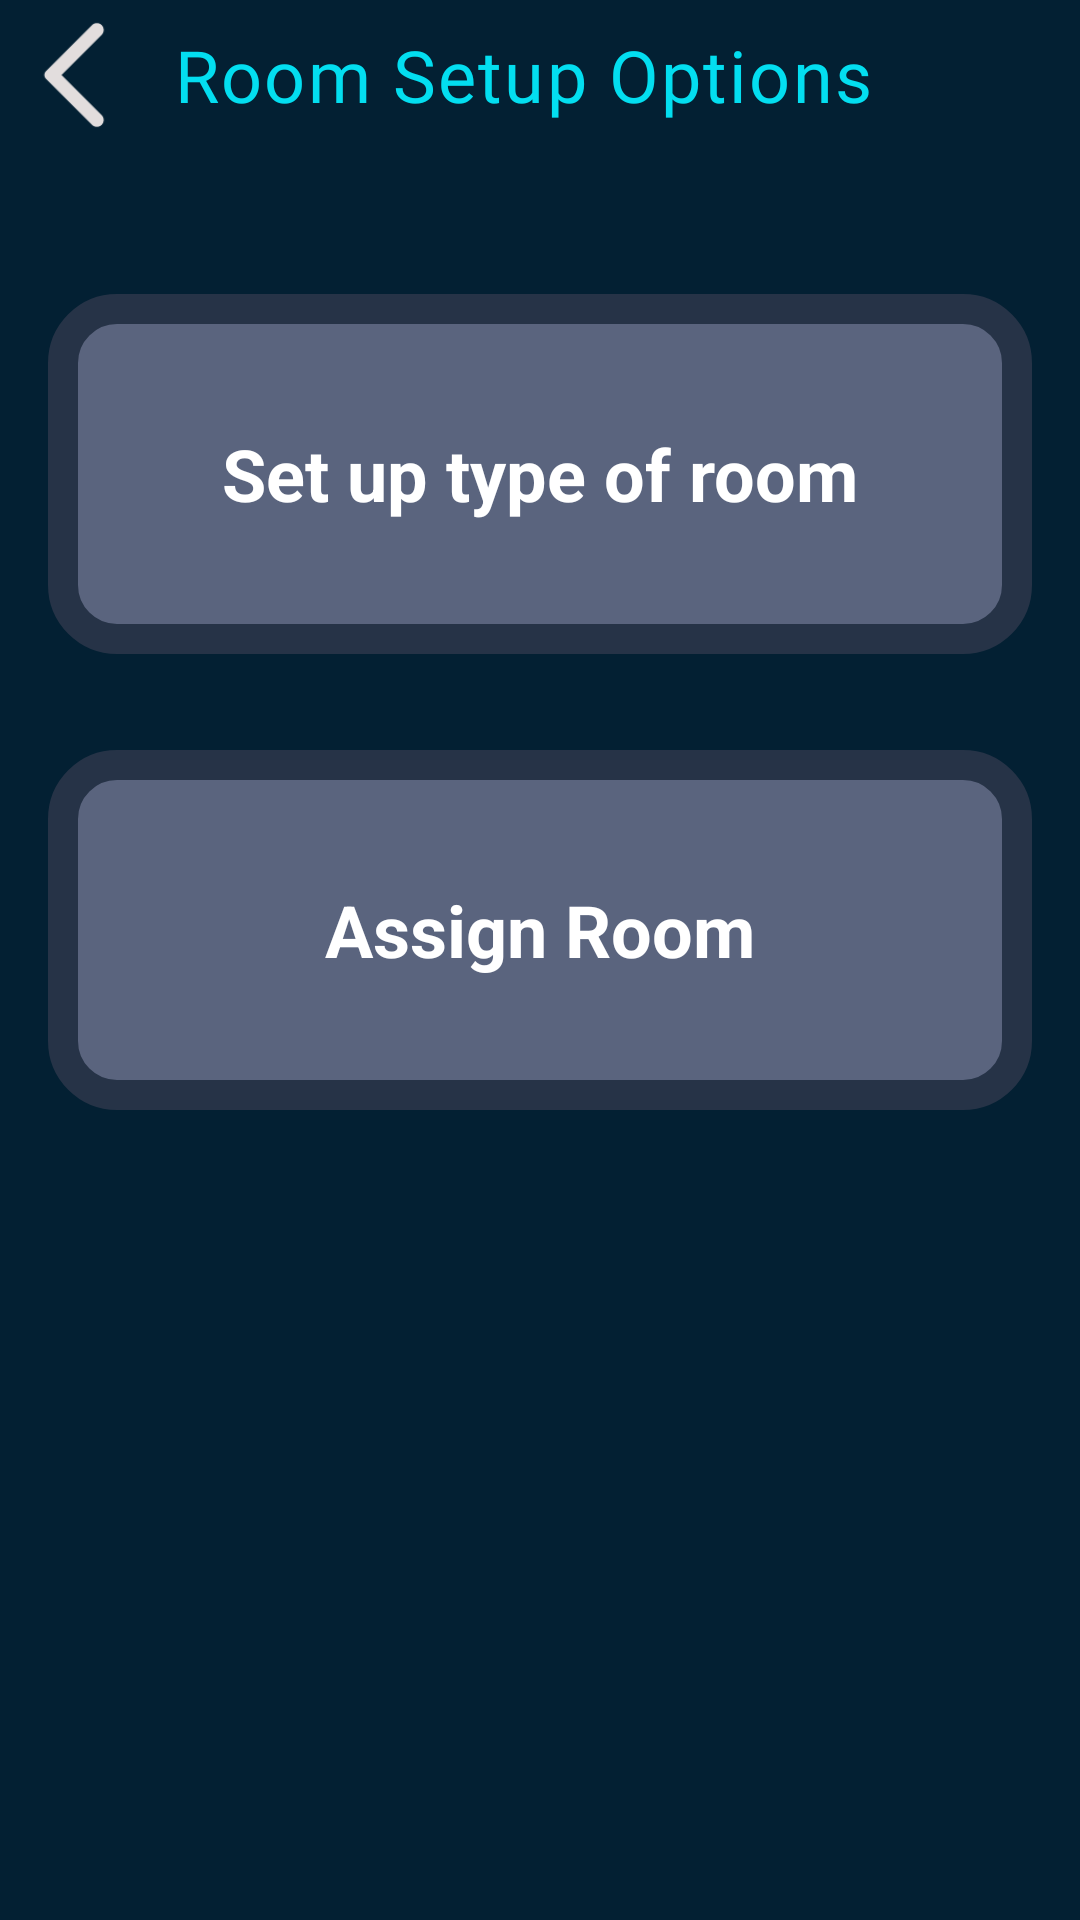

Icons on this 1080px x 1920px Android screen, each with its box as (x1, y1, x2, y2):
arrow: (44, 23, 104, 127)
